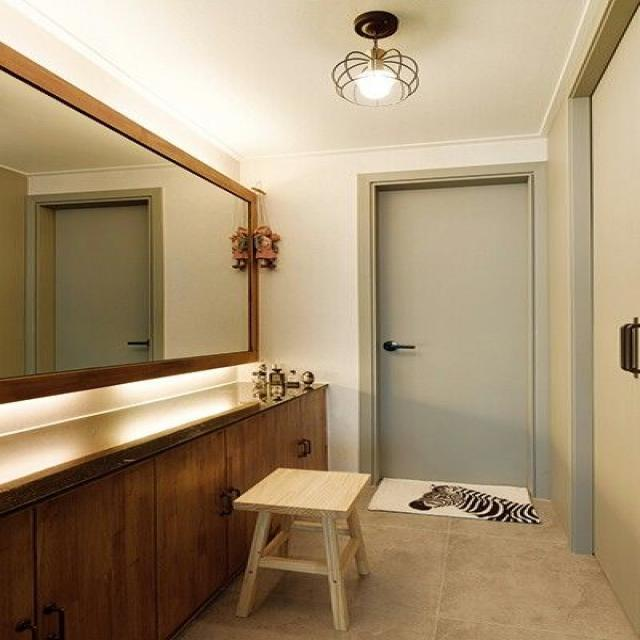door: (370, 172, 534, 494)
obstacle: (230, 466, 373, 631)
